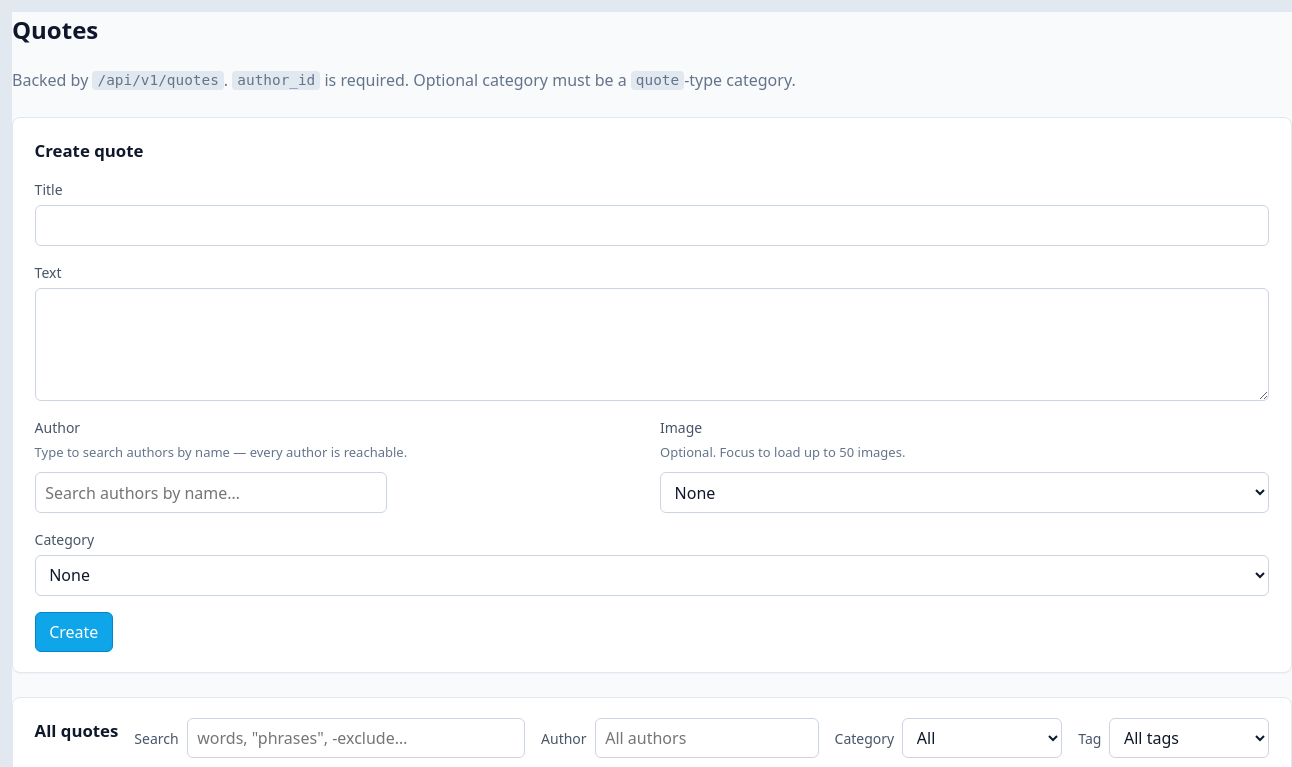
Test: QuotesPage › create form › blocks submit when text is empty
Type "A title" into the field at point(652, 226), box top-left (35, 205), bottom-right (1269, 246)
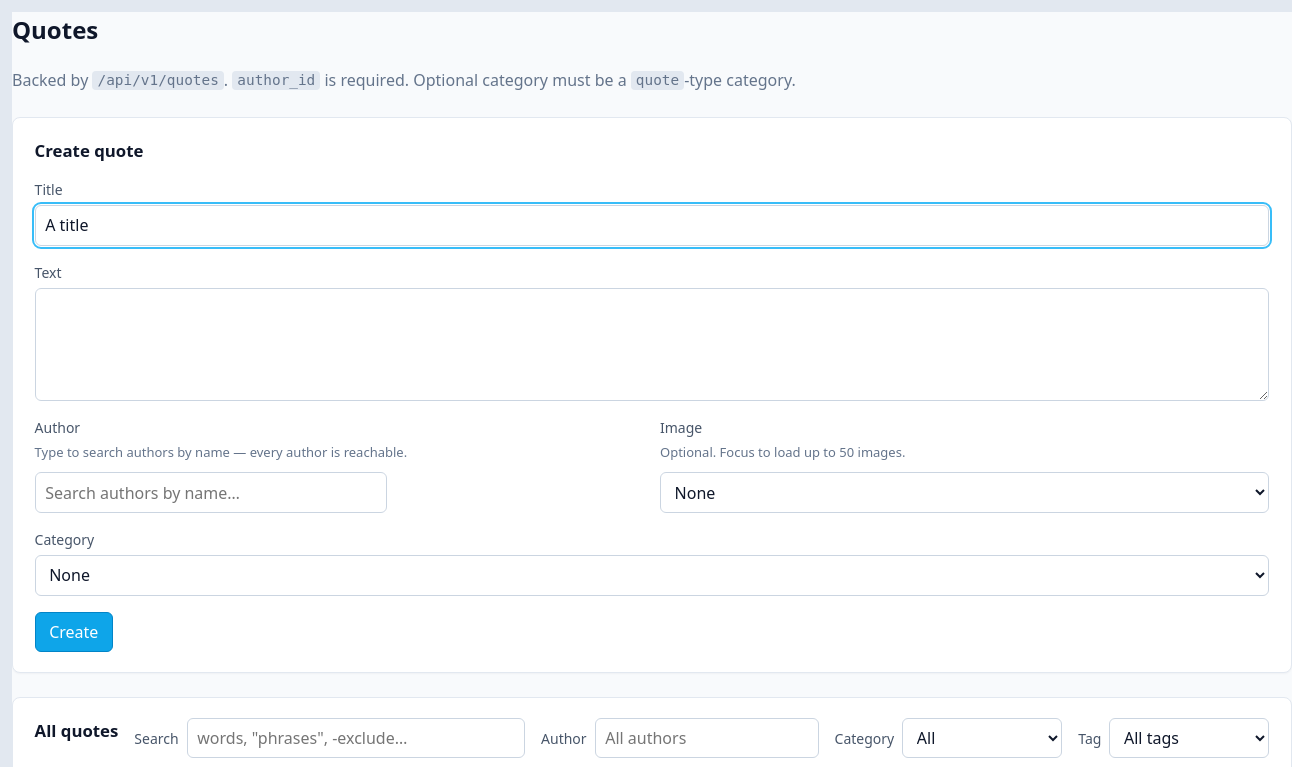
Click the button "Create" at point(74, 632), box top-left (35, 612), bottom-right (113, 652)
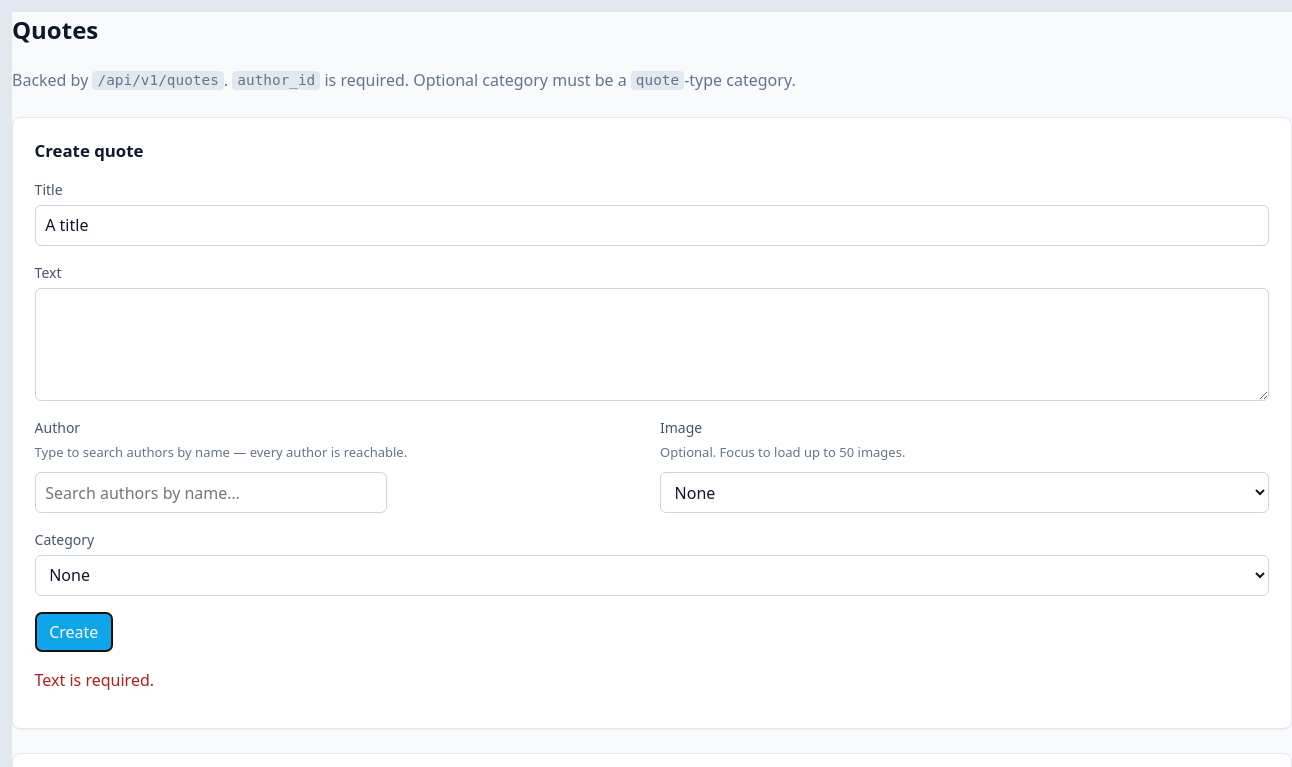
Expected: the text "Text is required." is shown, top-left (35, 669), bottom-right (154, 691)
